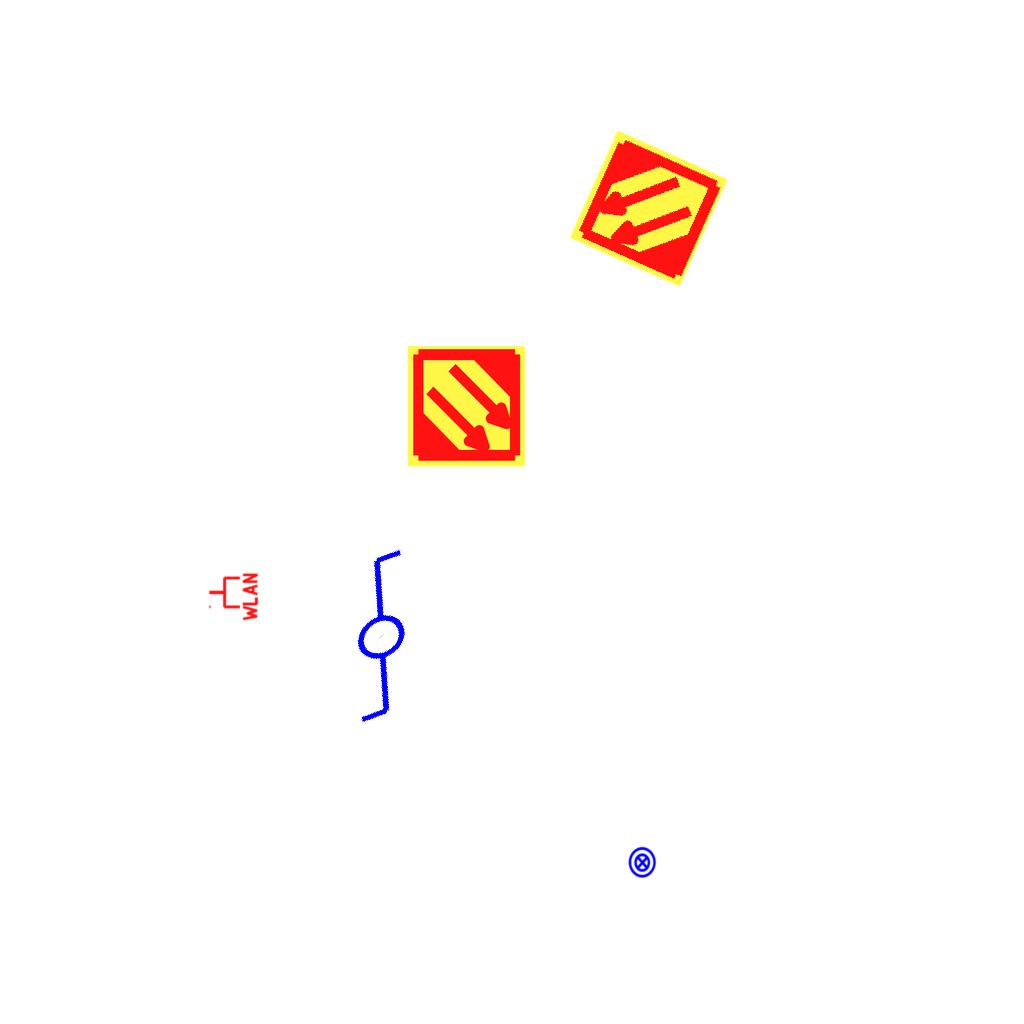ASR_Ansaugrauchmelder: (565, 125, 732, 292), (404, 344, 529, 469)
Taster_beleuchtet: (626, 846, 659, 879)
WLAN: (207, 571, 259, 623)
Wechselschalter: (267, 535, 480, 745)
